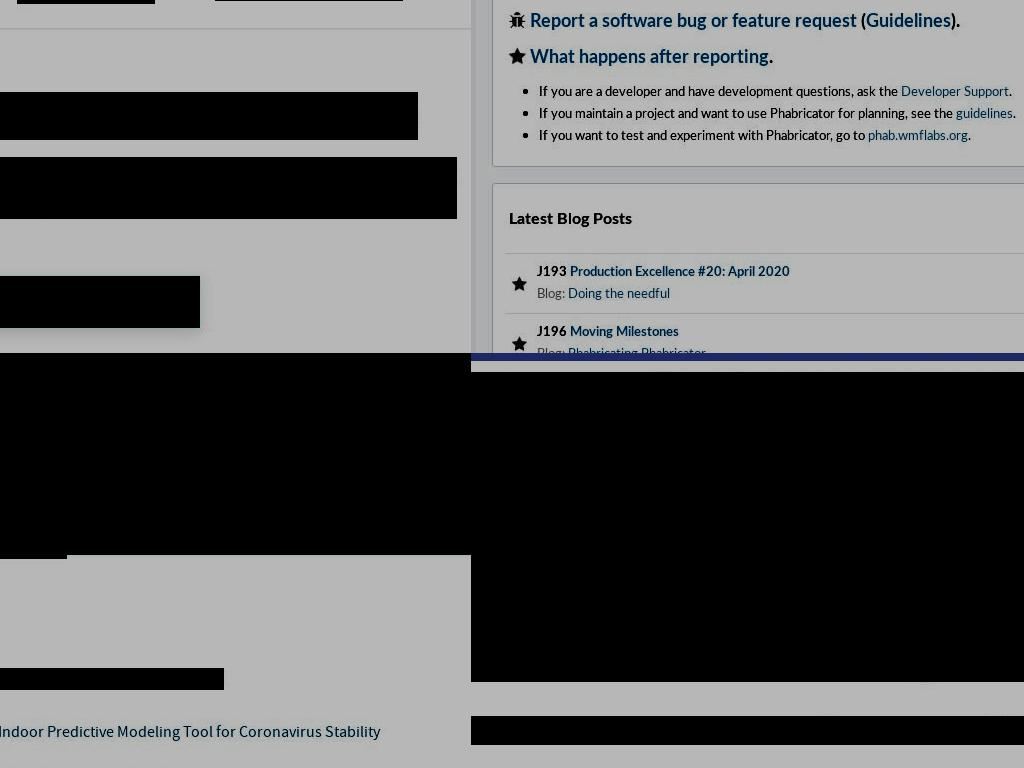button: (0, 276, 200, 328), (0, 277, 199, 327), (13, 537, 40, 559), (40, 537, 67, 559), (0, 537, 13, 559)
field: (601, 454, 1024, 513)
heading: (0, 157, 457, 219), (0, 92, 418, 140), (471, 394, 1024, 429), (471, 716, 1024, 745), (0, 721, 381, 743), (530, 7, 857, 32), (530, 42, 769, 68), (0, 668, 224, 690), (509, 206, 632, 229), (866, 7, 951, 32), (857, 7, 866, 32), (951, 7, 960, 32), (769, 42, 773, 68)
image: (471, 372, 1024, 682), (0, 353, 471, 555)
link: (570, 262, 790, 280), (570, 322, 679, 340), (901, 82, 1009, 100), (568, 284, 670, 302), (868, 126, 968, 144), (891, 522, 987, 540), (568, 344, 706, 353), (956, 104, 1013, 122)
text: (471, 578, 1024, 603), (539, 104, 956, 122), (539, 82, 901, 100), (539, 126, 868, 144), (537, 284, 568, 302), (537, 262, 567, 280), (537, 322, 567, 340), (537, 344, 568, 353), (1009, 82, 1012, 100), (1013, 104, 1016, 122), (968, 126, 971, 144)
